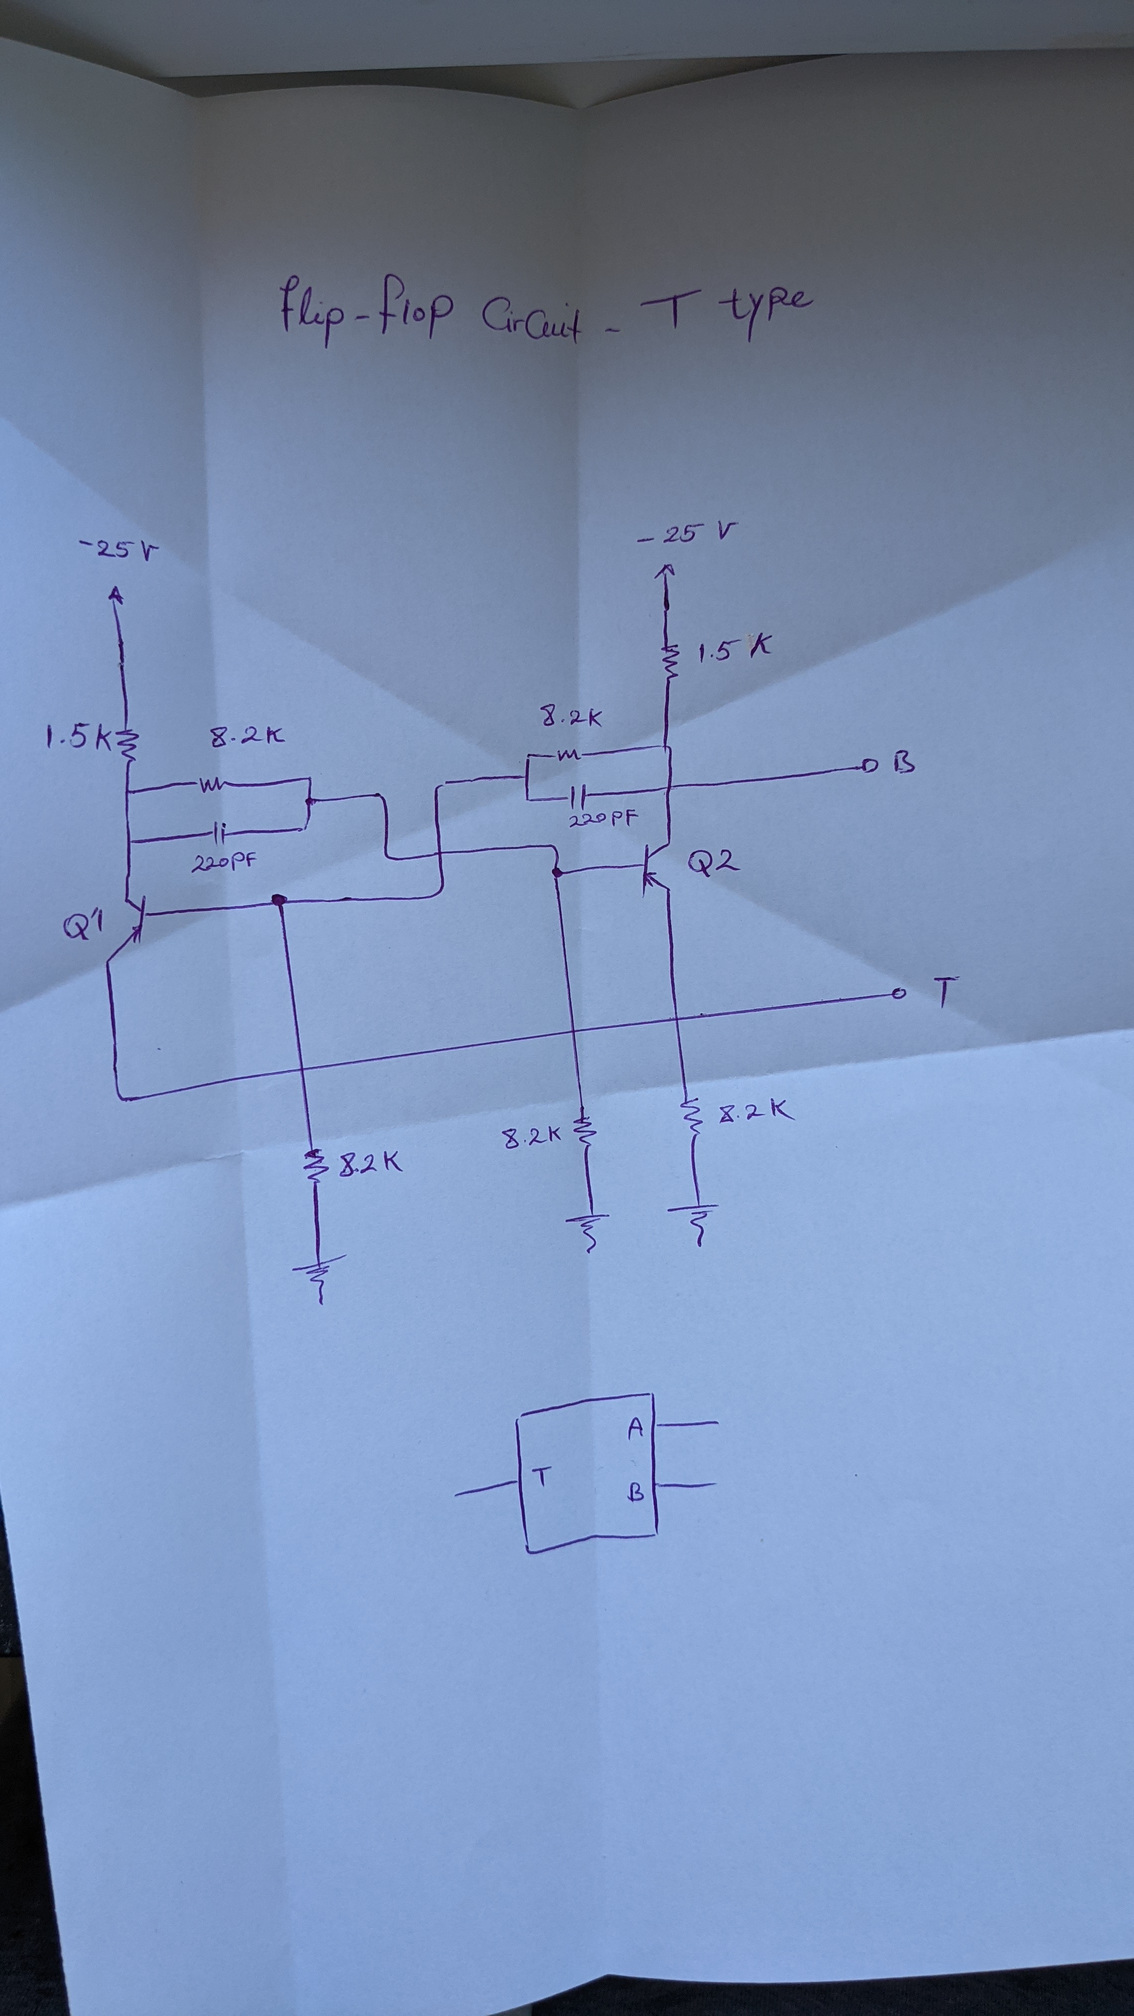capacitor.unpolarized: (564, 782, 593, 811), (208, 820, 231, 847)
crossover: (670, 1011, 687, 1027), (296, 1062, 310, 1077), (566, 1025, 582, 1037), (433, 847, 447, 858), (663, 782, 677, 793)
gnd: (289, 1252, 349, 1308), (665, 1200, 723, 1249), (564, 1210, 613, 1256)
integrated_circuit: (512, 1387, 663, 1556)
junction: (269, 892, 289, 908), (431, 883, 446, 899), (550, 865, 565, 881), (303, 796, 318, 809), (433, 780, 449, 792), (656, 744, 673, 755), (115, 1090, 127, 1104), (123, 836, 138, 847), (374, 791, 389, 802), (122, 786, 136, 798), (382, 852, 396, 863), (299, 822, 312, 834), (523, 750, 534, 762), (305, 774, 317, 784), (521, 773, 532, 782), (523, 795, 533, 804), (550, 843, 559, 852)
resistor: (300, 1145, 332, 1184), (678, 1094, 705, 1140), (570, 1113, 600, 1152), (658, 641, 683, 685), (114, 726, 141, 764), (191, 774, 233, 795), (550, 748, 587, 763)
terminal: (705, 1472, 723, 1495), (860, 756, 881, 775), (708, 1412, 726, 1432), (449, 1484, 462, 1506), (890, 986, 908, 1001)
text: (276, 269, 817, 354), (634, 516, 739, 548), (695, 629, 775, 667), (75, 534, 162, 566), (716, 1095, 798, 1126), (43, 720, 114, 755), (336, 1146, 406, 1181), (208, 723, 288, 750), (685, 845, 744, 881), (539, 701, 606, 730), (60, 903, 108, 943), (500, 1123, 564, 1153), (188, 849, 259, 874), (568, 807, 640, 831), (932, 973, 962, 1009), (620, 1412, 647, 1443), (892, 748, 918, 775), (530, 1462, 557, 1490), (624, 1477, 647, 1506)
transistor: (104, 894, 150, 964), (640, 839, 677, 899)
vss: (652, 559, 680, 583), (107, 583, 127, 605)
